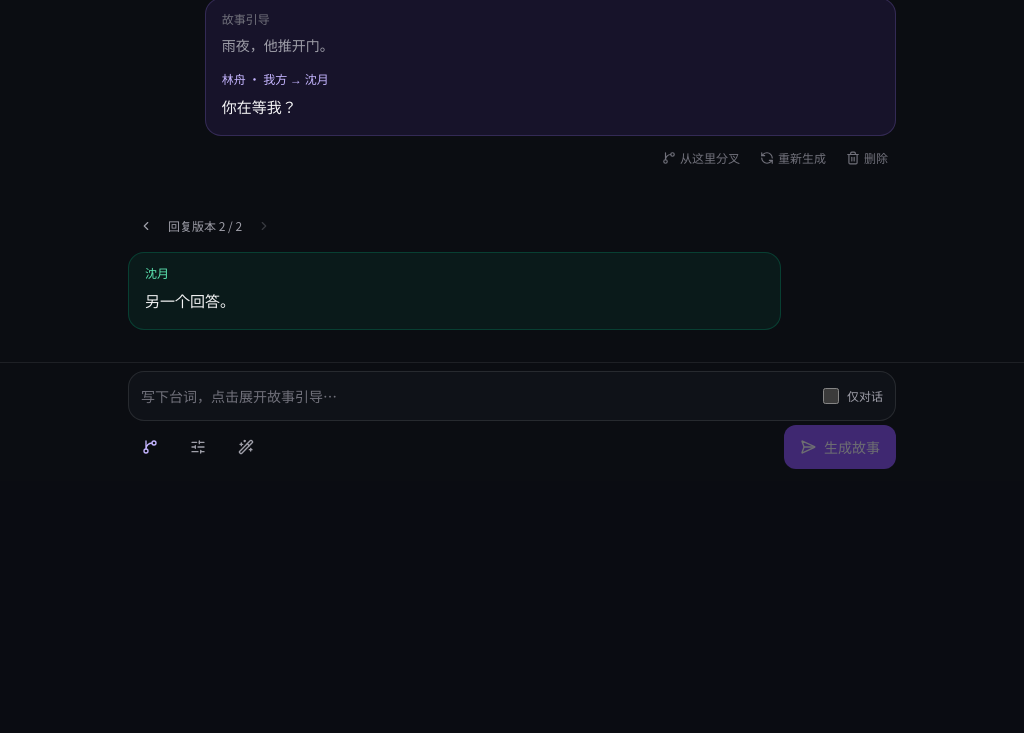
Test: roleplay script view › switches reply versions with their continuations and regenerates the selected older branch
The width and height of the screenshot is (1024, 733).
expect the text "另一个回答。" is shown: met, box [145,290,235,311]
expect the text "旧回答的后续。" is not shown: met
Click the button named "上一个回复版本": click(146, 226) [128,208,164,244]
(page scrolled)
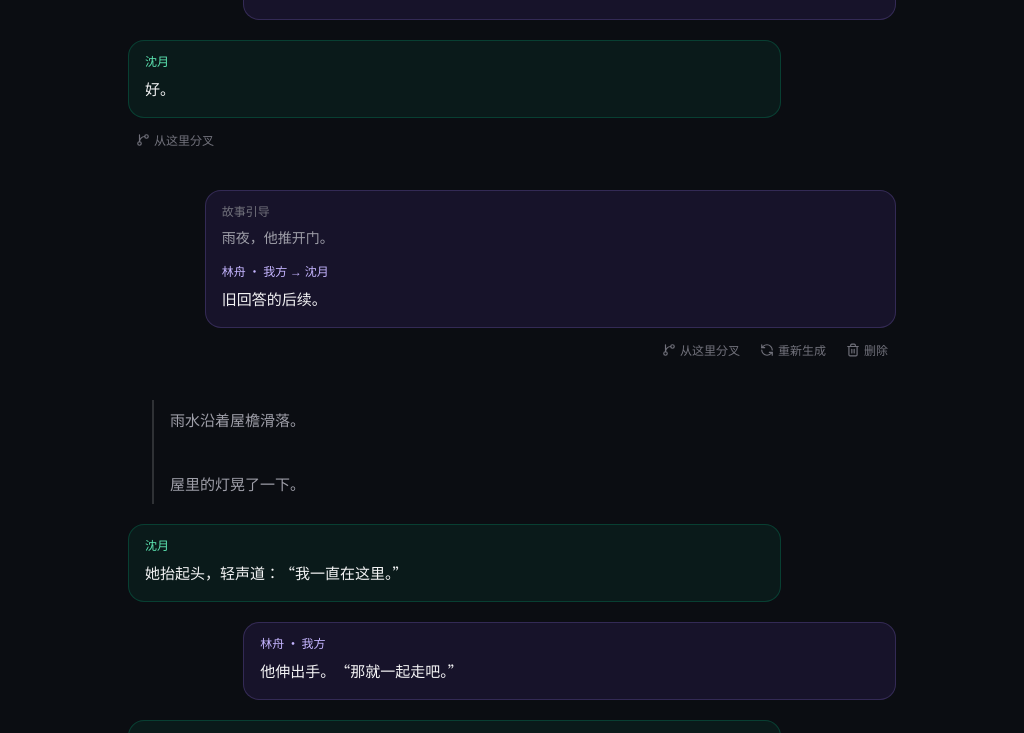
expect the text "旧回答的后续。" is shown: met, box [222,288,327,309]
expect the text "另一个回答。" is gone: met
Click the button with test id "roleplay-regenerate-last": click(793, 350) [752,332,834,368]
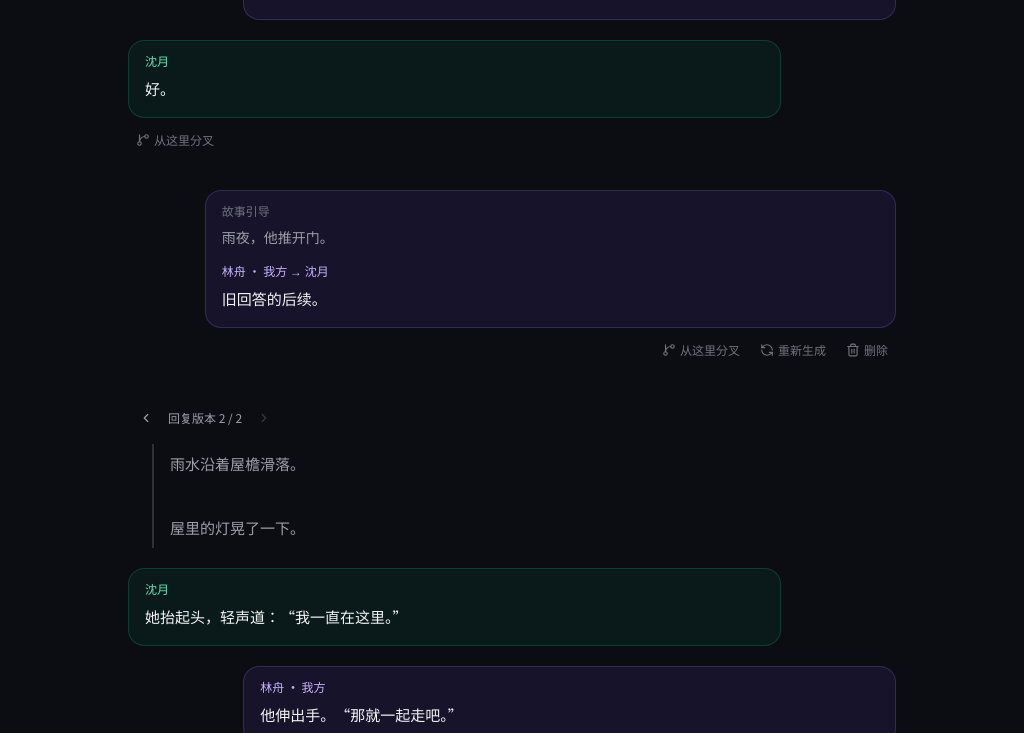
Click the button named "上一个回复版本": click(146, 418) [128,400,164,436]
(page scrolled)
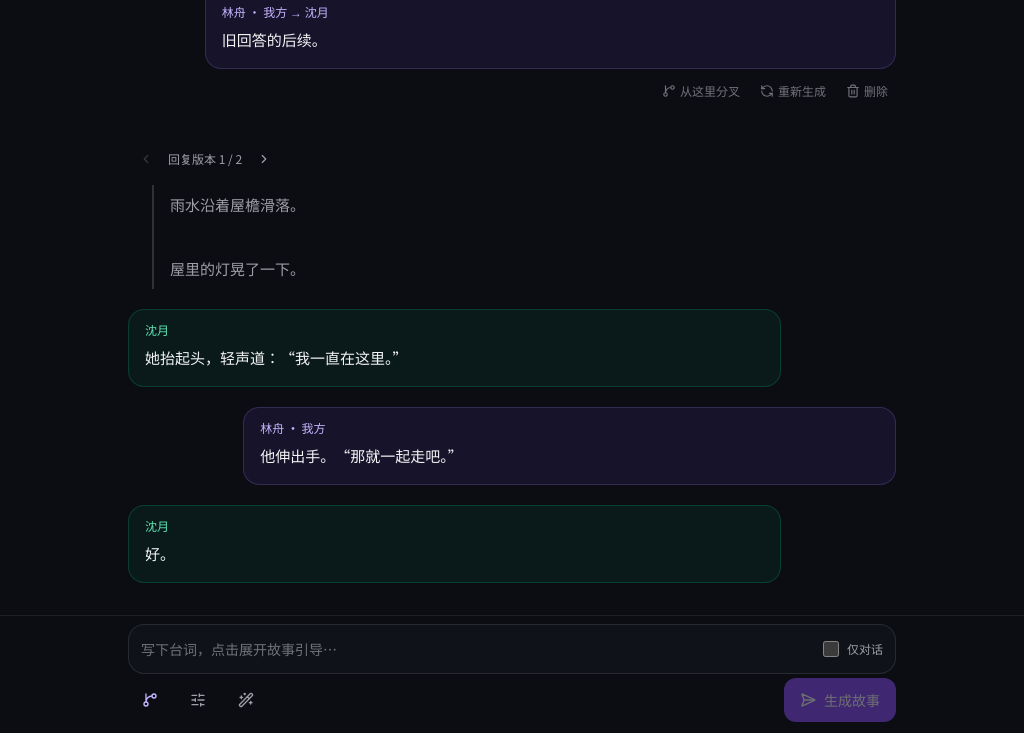
expect the element with test id "roleplay-message-3" is shown: met, box [128,141,896,583]
